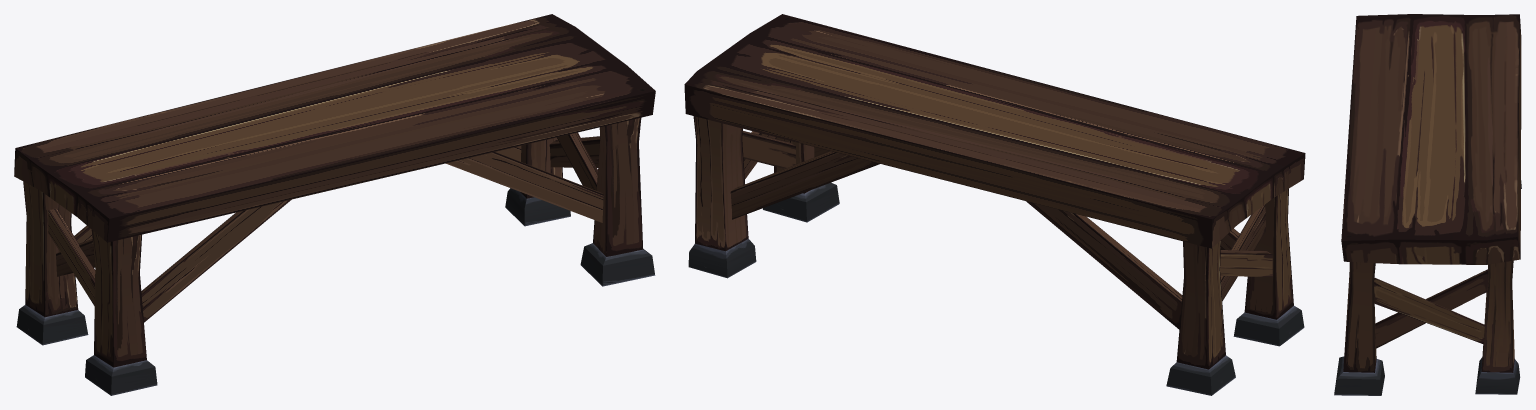
The model's file is SM_PROP_chair_03_dungeon.fbx.
The picture shows the model from 3 angles, left to right: view 1: azimuth 30°, elevation 25°; view 2: azimuth 150°, elevation 25°; view 3: azimuth 270°, elevation 25°; orthographic projection. The views are drawn at different scales.
Parts seen in each view (by area): view 1: SM_PROP_chair_03_dungeon; view 2: SM_PROP_chair_03_dungeon; view 3: SM_PROP_chair_03_dungeon.
Boxes of the visible parts, x1,y1,x2,y2 form: SM_PROP_chair_03_dungeon: (14,14,655,395); SM_PROP_chair_03_dungeon: (684,14,1305,395); SM_PROP_chair_03_dungeon: (1334,14,1521,395).
Size of the model in its own units: 153 by 49.53 by 52.91.
